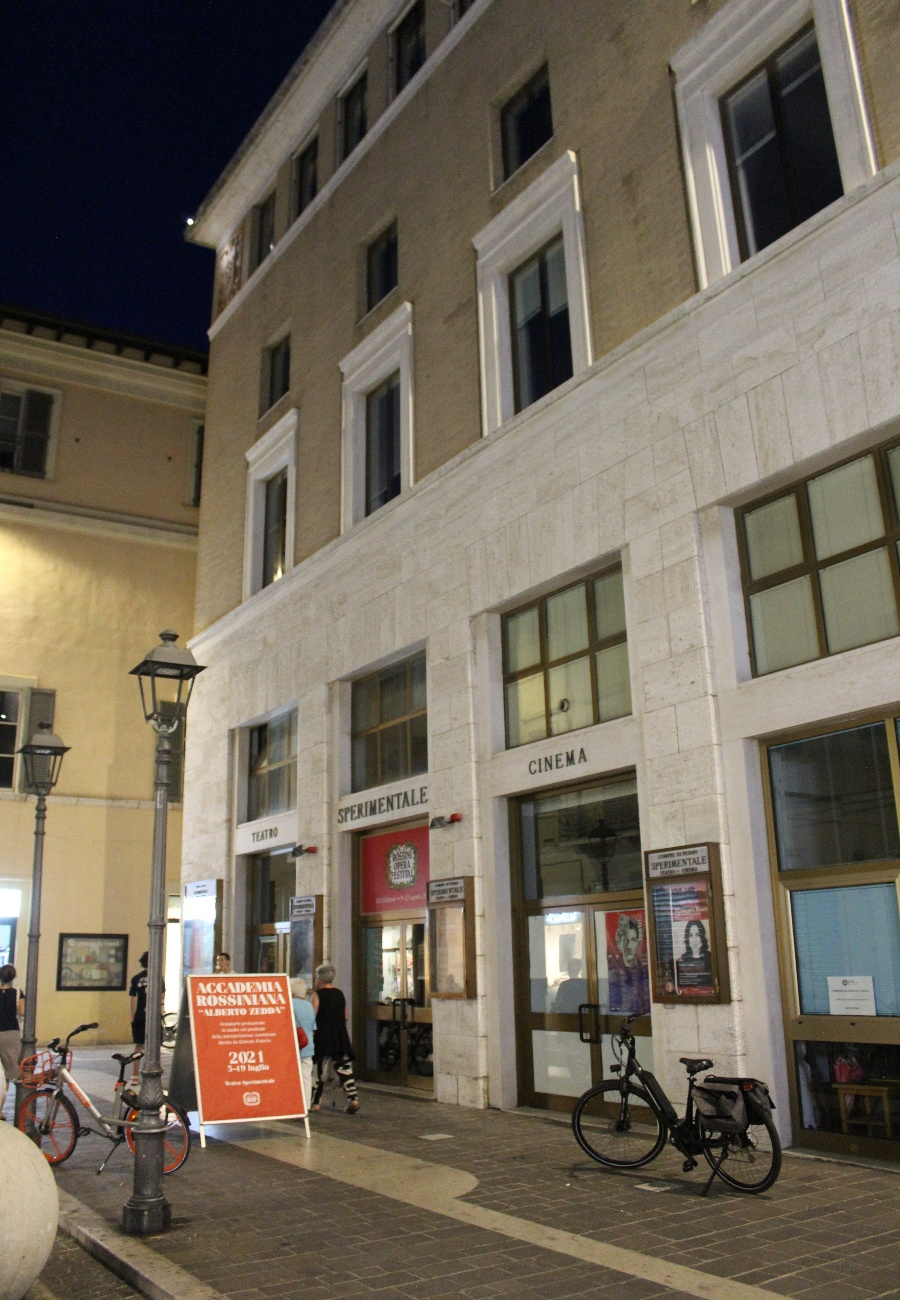Teatro Sperimentale: (168, 1, 900, 1107)
